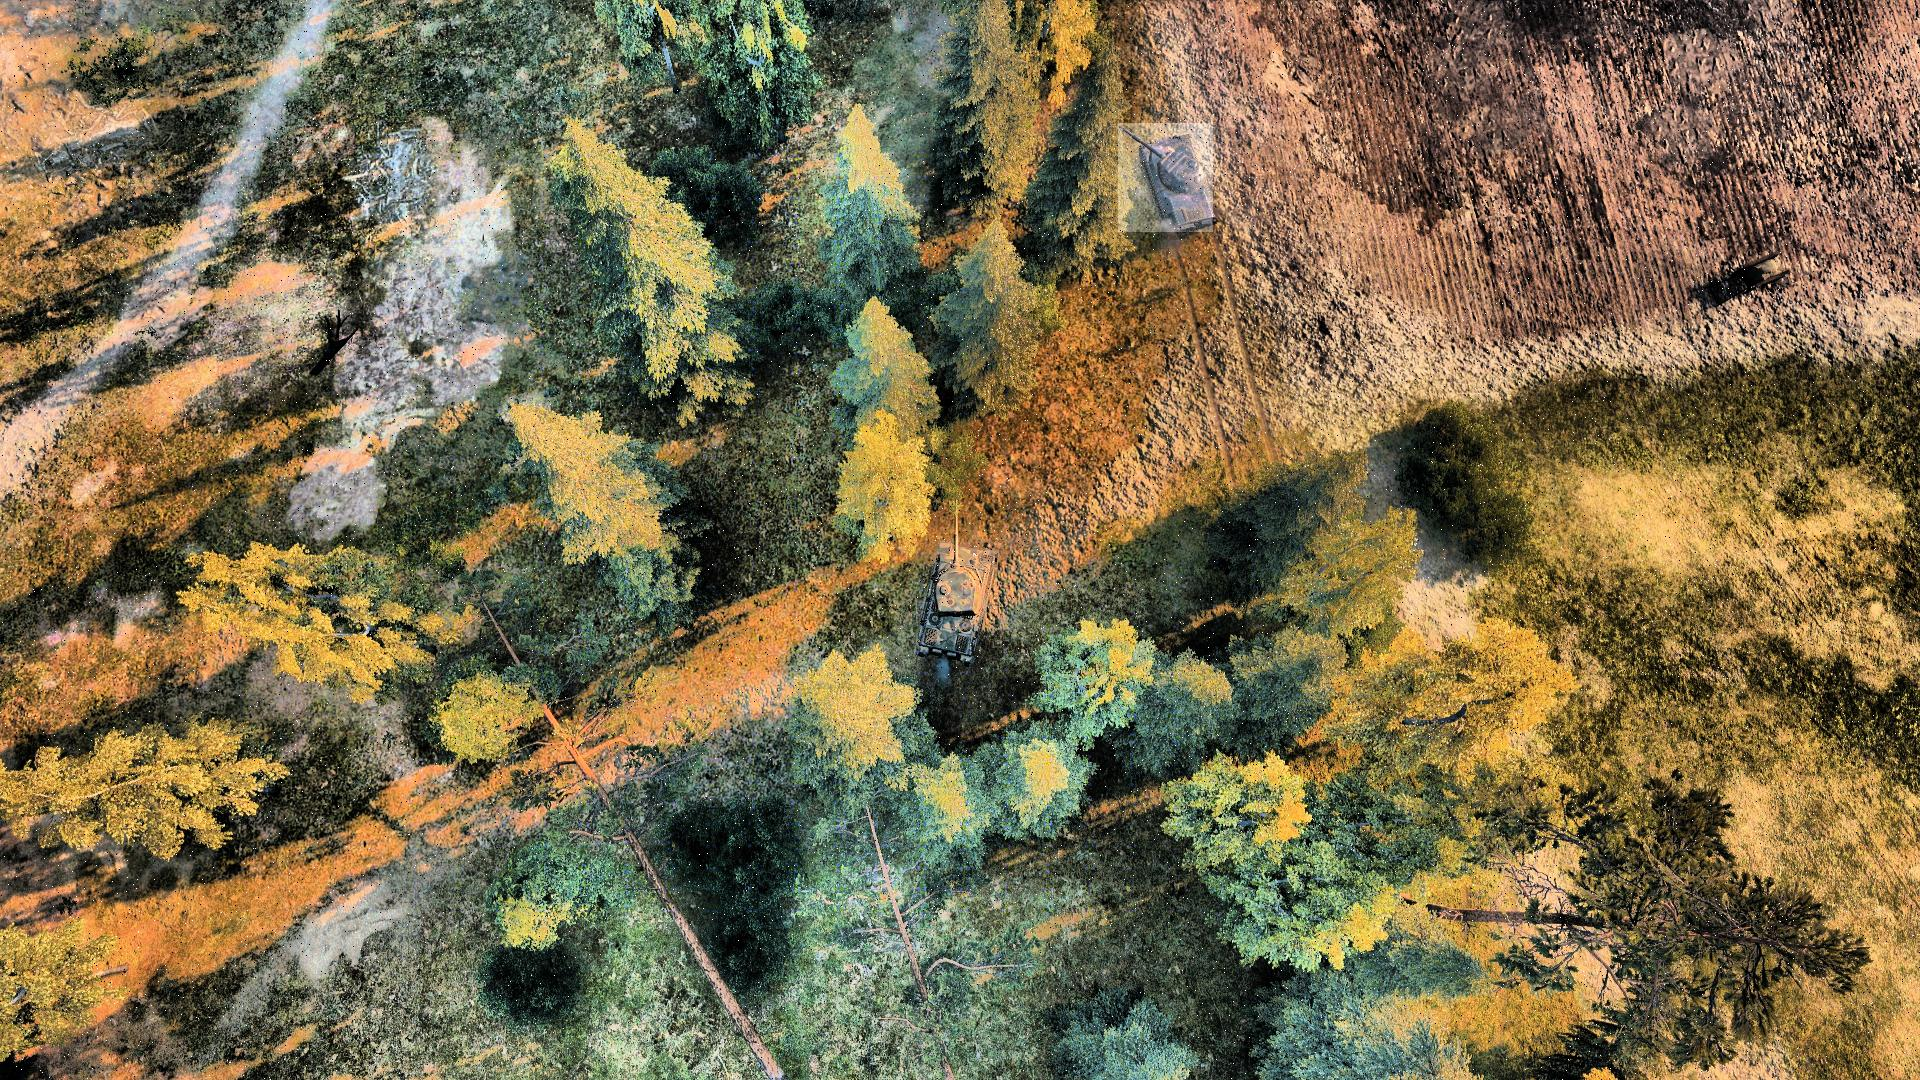military-vehicle: (916, 498, 997, 667), (1118, 123, 1213, 232)
